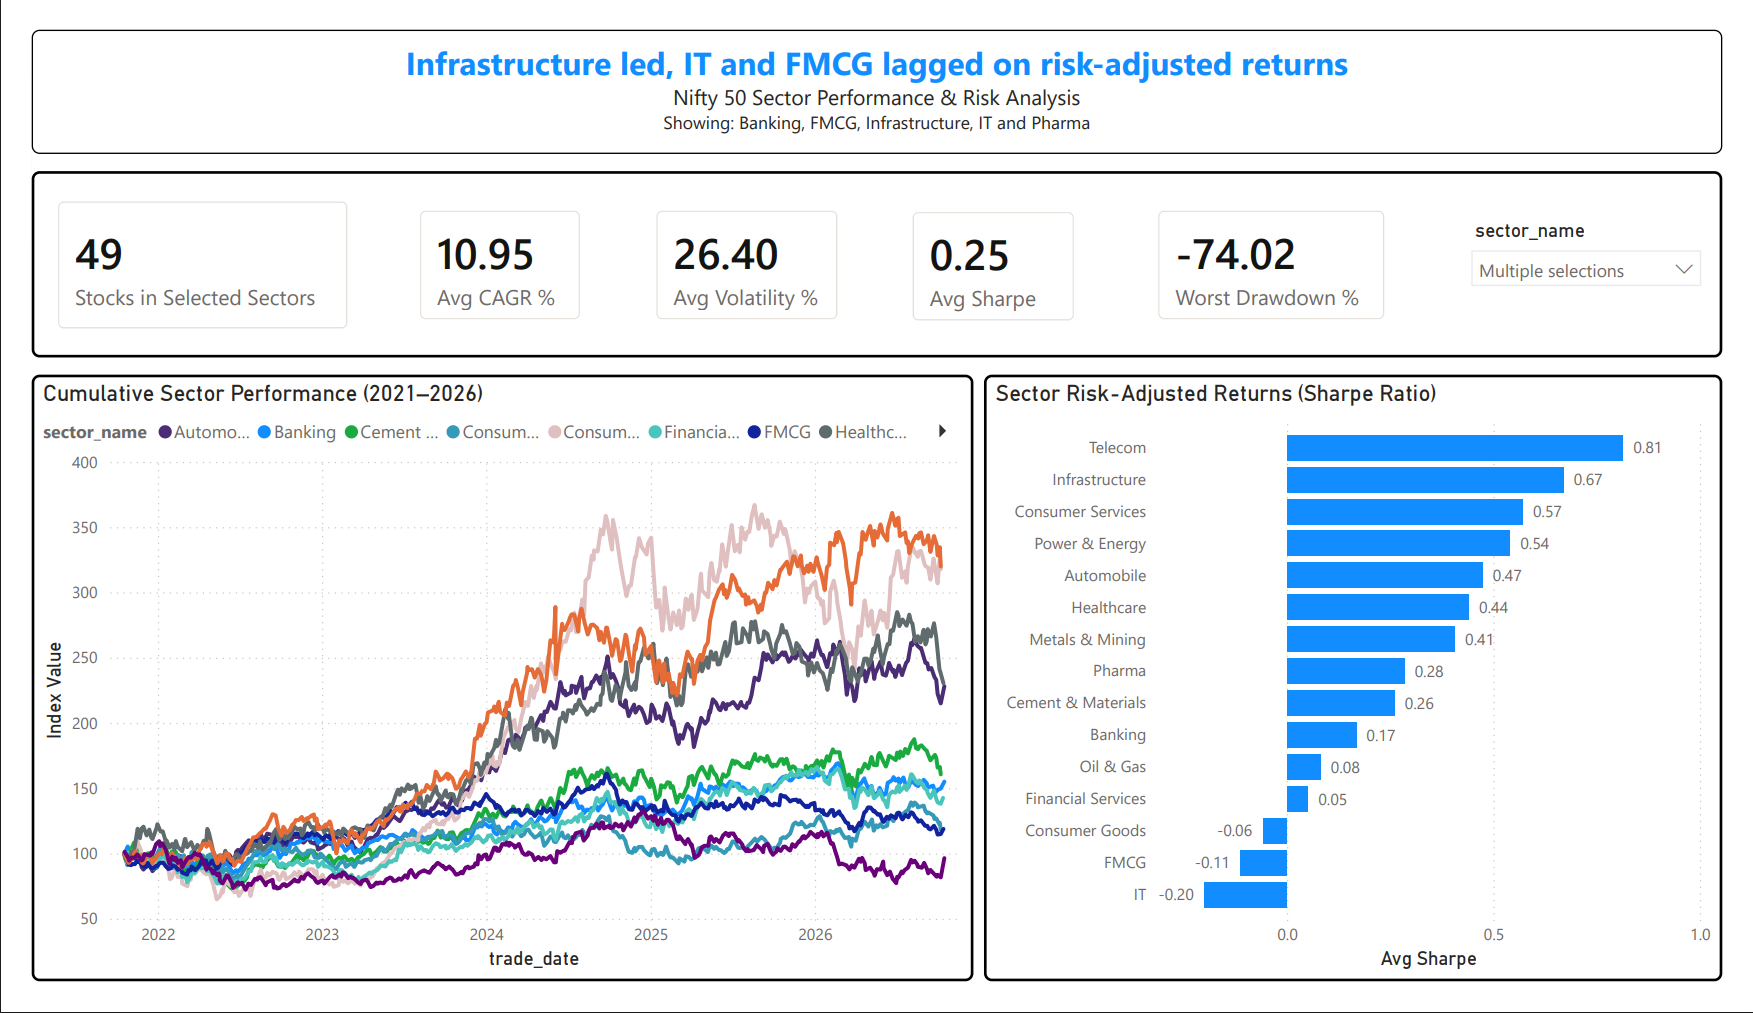

The dashboard page shown, as its layout file describes it:
{"tool":"powerbi","page":{"name":"Market Overview","canvas":[1280,720],"ordinal":0},"visuals":[{"type":"shape","box":[0,106.7,1280,141.1],"z":0},{"type":"textbox","box":[0,0,1280,94.4],"z":1000},{"type":"lineChart","title":"Cumulative Sector Performance (2021–2026)","fields":{"Y":["Avg(sector_cumulative.index_value)"],"Series":["sector_cumulative.sector_name"],"Category":["sector_cumulative.trade_date"]},"box":[0,261.1,713.3,458.9],"z":8000},{"type":"clusteredBarChart","title":"Sector Risk-Adjusted Returns (Sharpe Ratio)","fields":{"Category":["DimSector.sector_name"],"Y":["sector_metrics.Avg Sharpe"]},"box":[721.1,261.1,558.9,458.9],"z":9000},{"type":"cardVisual","fields":{"Data":["sector_metrics.Stock Count"]},"box":[3.3,113.3,252.2,130],"z":12500},{"type":"cardVisual","fields":{"Data":["sector_metrics.Avg CAGR %"]},"box":[276.7,120,155.6,115.6],"z":13000},{"type":"cardVisual","fields":{"Data":["sector_metrics.Avg Volatility %"]},"box":[455.6,120,171.1,115.6],"z":13500},{"type":"cardVisual","fields":{"Data":["sector_metrics.Avg Sharpe"]},"box":[650,121.1,155.6,115.6],"z":14000},{"type":"cardVisual","fields":{"Data":["sector_metrics.Worst Drawdown %"]},"box":[835.6,120,205.6,115.6],"z":14500},{"type":"slicer","fields":{"Values":["DimSector.sector_name"]},"box":[1080,138.9,194.4,80],"z":15000}]}

Visuals, with their boxes in screenshot pixels (x1, y1, x2, y2), scaled from the page's 1280x720 canvas onto the 1753x1013 screenshot:
shape: (left=0, top=150, right=1752, bottom=349)
textbox: (left=0, top=0, right=1752, bottom=133)
"Cumulative Sector Performance (2021–2026)" lineChart: (left=0, top=367, right=977, bottom=1012)
"Sector Risk-Adjusted Returns (Sharpe Ratio)" clusteredBarChart: (left=988, top=367, right=1752, bottom=1012)
cardVisual - sector_metrics.Stock Count: (left=5, top=159, right=350, bottom=342)
cardVisual - sector_metrics.Avg CAGR %: (left=379, top=169, right=592, bottom=331)
cardVisual - sector_metrics.Avg Volatility %: (left=624, top=169, right=858, bottom=331)
cardVisual - sector_metrics.Avg Sharpe: (left=890, top=170, right=1103, bottom=333)
cardVisual - sector_metrics.Worst Drawdown %: (left=1144, top=169, right=1426, bottom=331)
slicer - DimSector.sector_name: (left=1479, top=195, right=1745, bottom=308)
